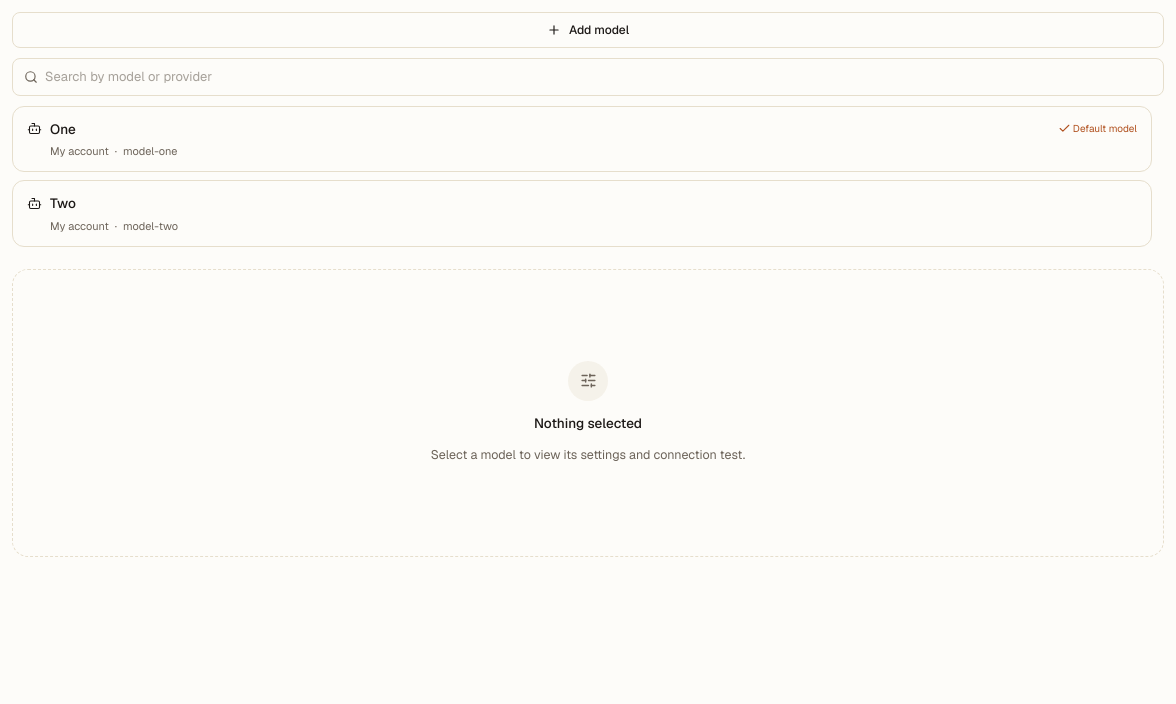
Test case: stages a new model and defaults its display name to the typed model ID
Click the button "Add model" at (588, 30), box [12,12,1164,48]
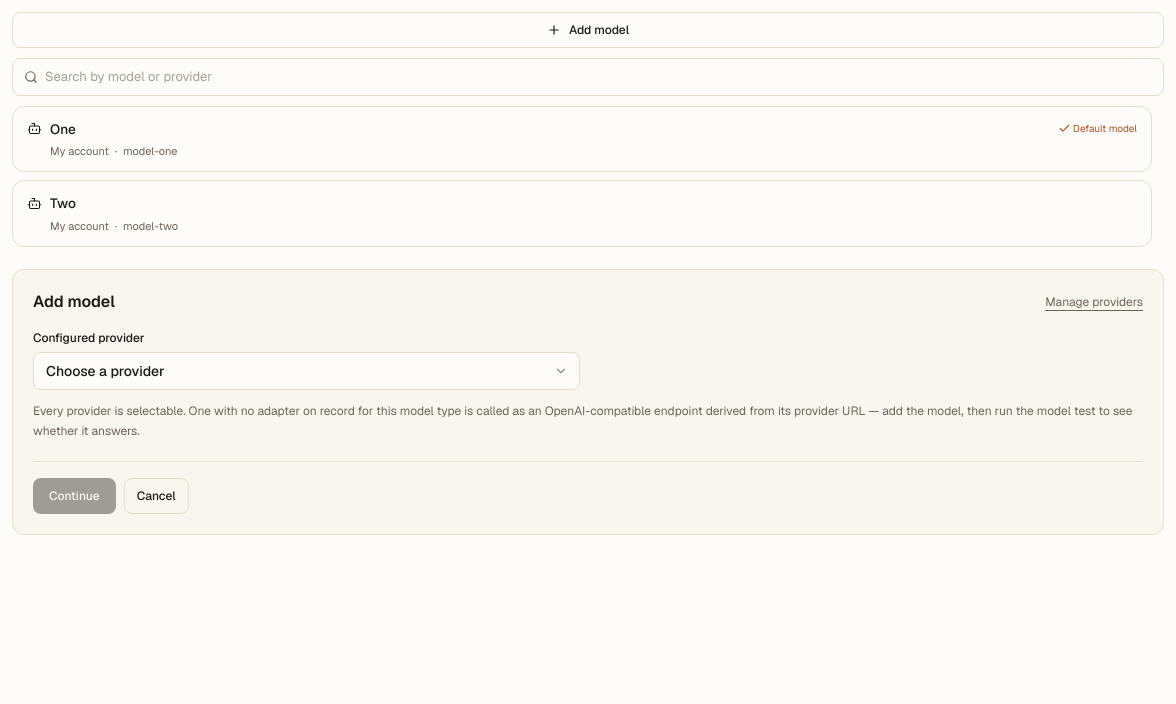
Select "My account" in the dropdown labelled "Configured provider" at (306, 371), box [33,352,580,390]
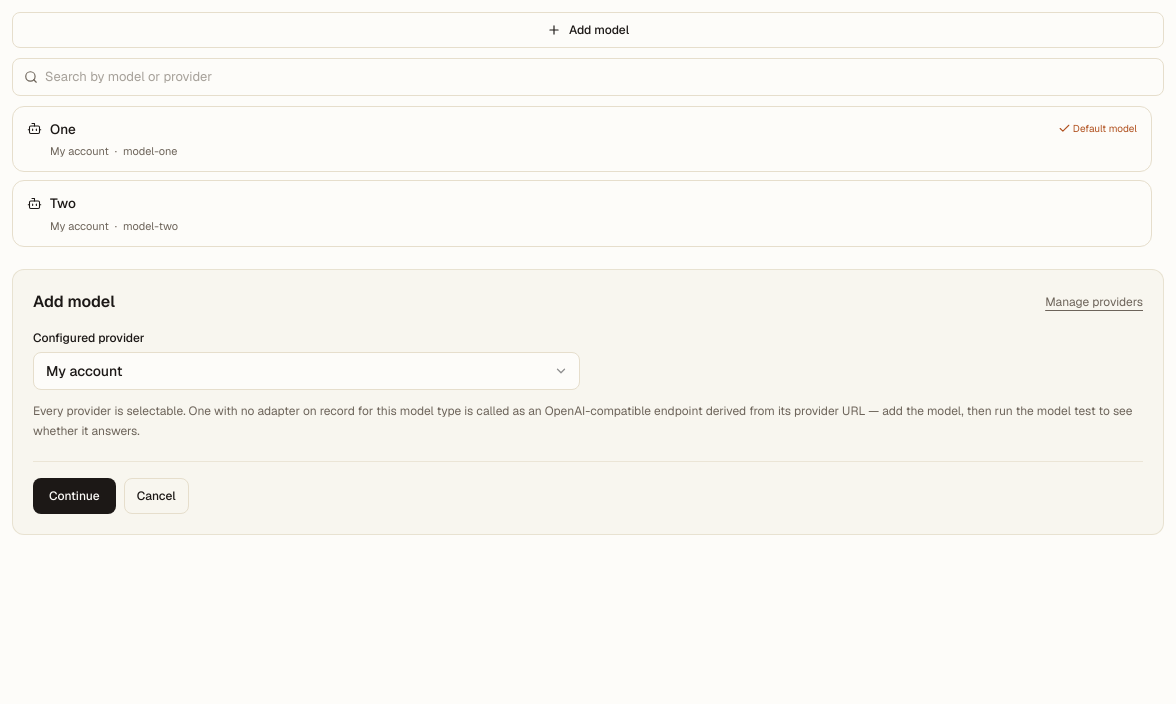
Click the button "Continue" at (74, 496), box [33,478,116,514]
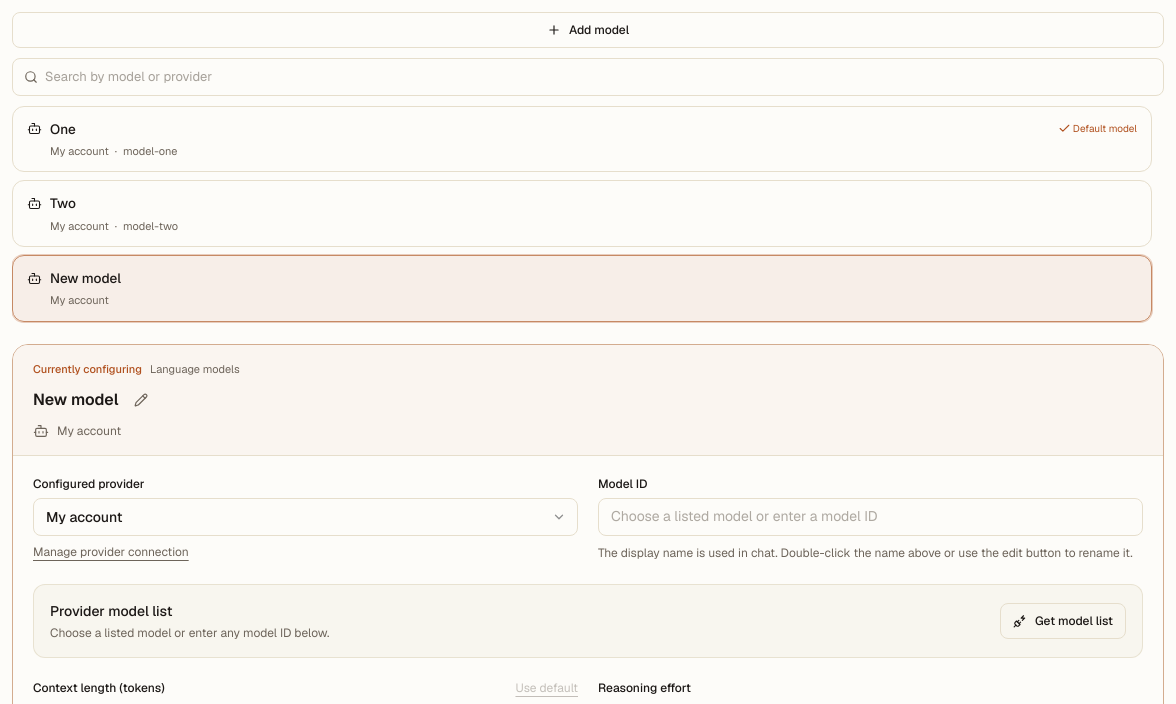
Type "custom/model-id" into the dropdown labelled "Model ID" at (870, 517), box [598,498,1143,536]
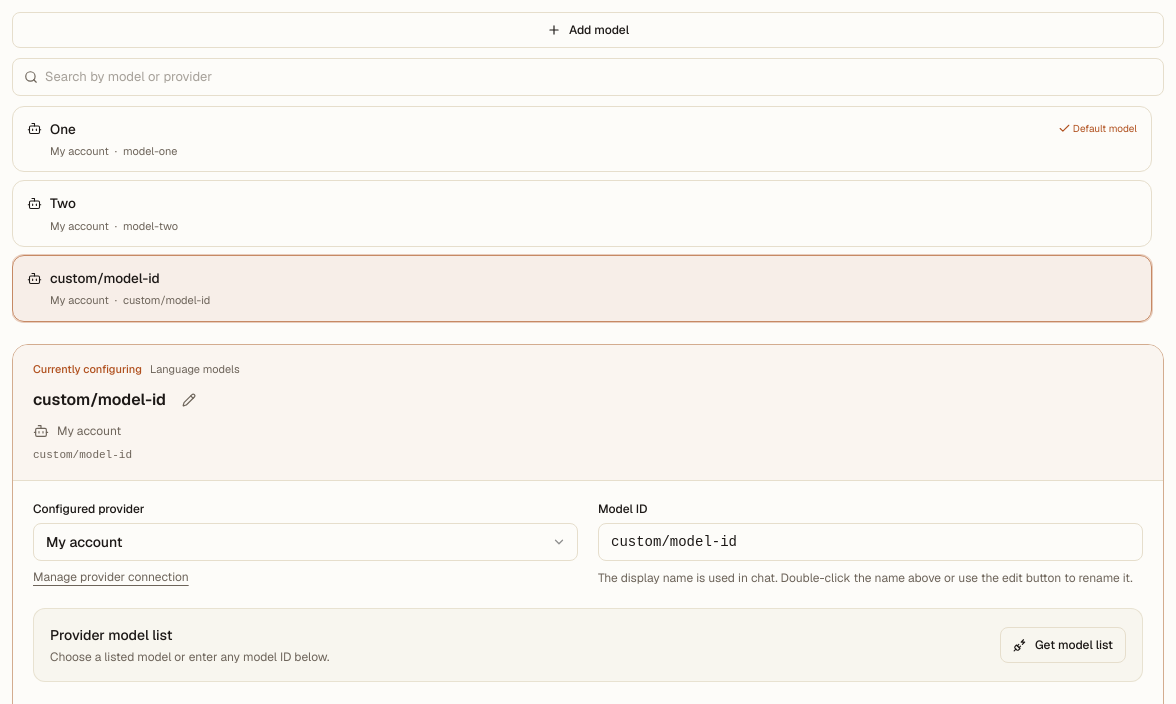
Result: the heading "custom/model-id" is shown at [33,388,166,412]
